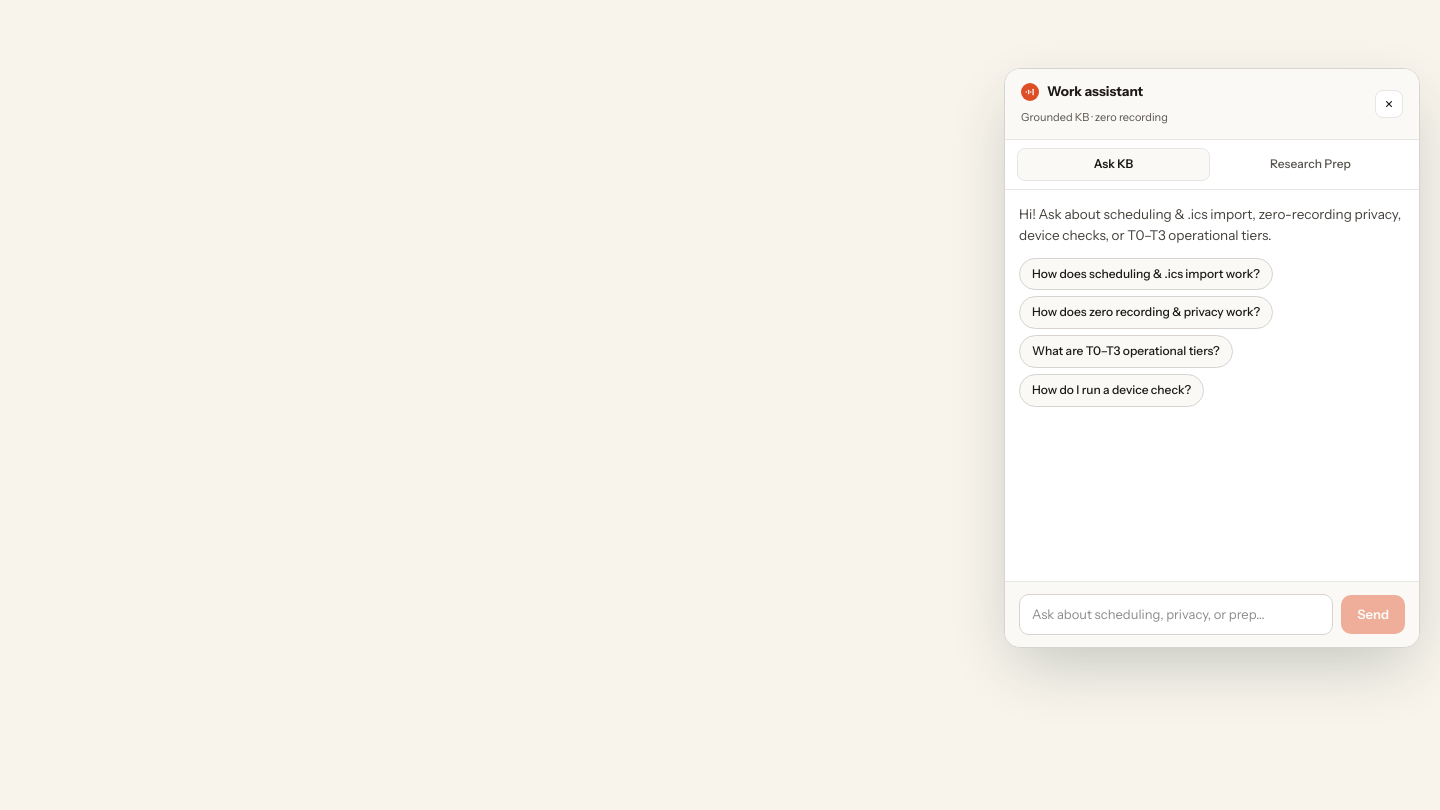
Test: drops stale answers after the account changes mid-stream
The width and height of the screenshot is (1440, 810).
Type "How does billing rounding work?" into the field with placeholder "Ask about scheduling, privacy, or prep...".
click(1176, 615); type("How does billing rounding work?")  # box [1019,594,1333,635]
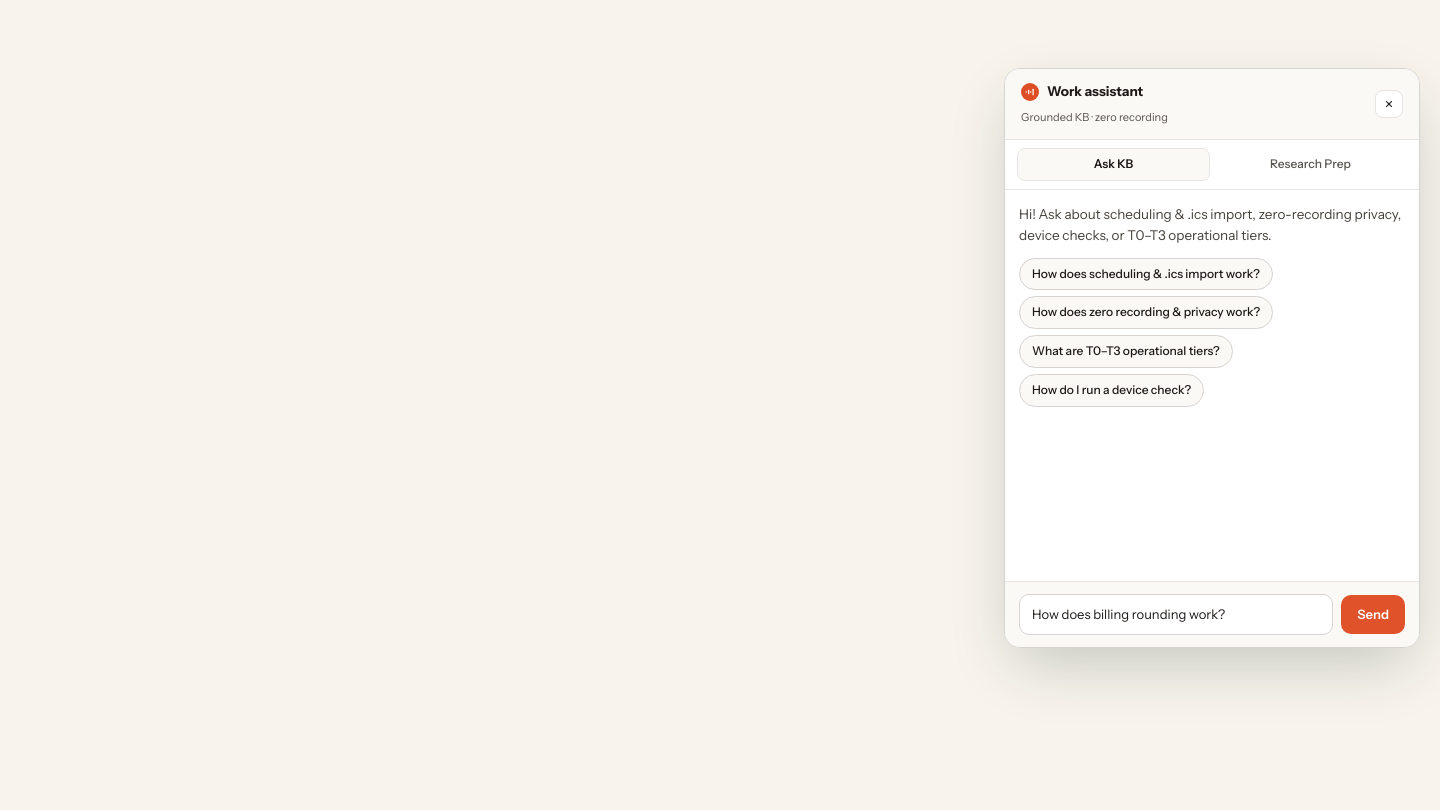
Submit the form with placeholder "Ask about scheduling, privacy, or prep...", box [1005,582,1419,647]
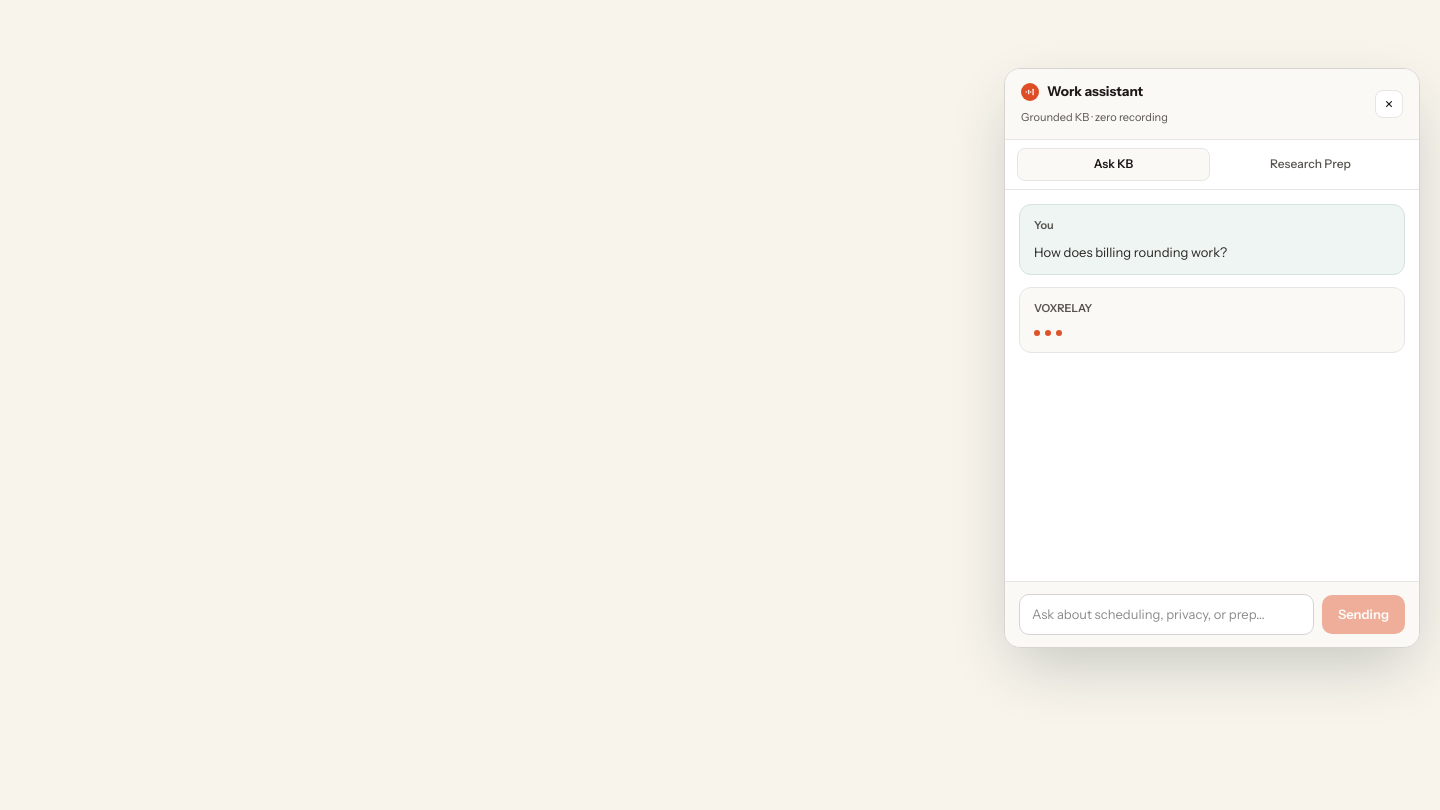
Check: the text "You" is shown, box [1034,217,1054,234]
